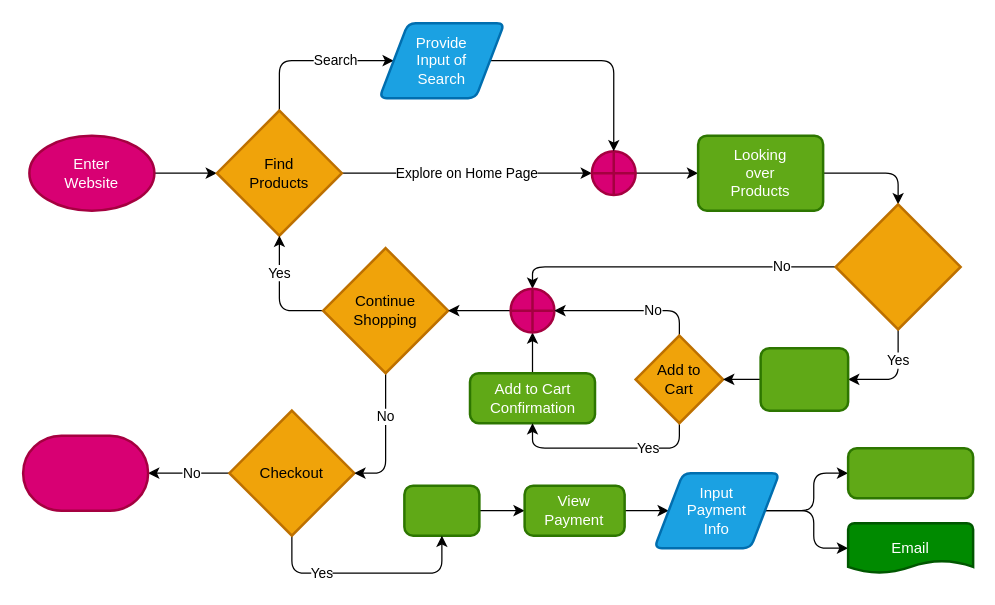
Image size: 995x605. Some labels were removed from this diagram. The centre of each missing label's shape, as x and y in pixels:
Leave Website: (85,472)
Order Confirmation: (910,472)
Product Webpage: (804,378)
View Cart: (441,510)
View Specific Product: (897,266)
